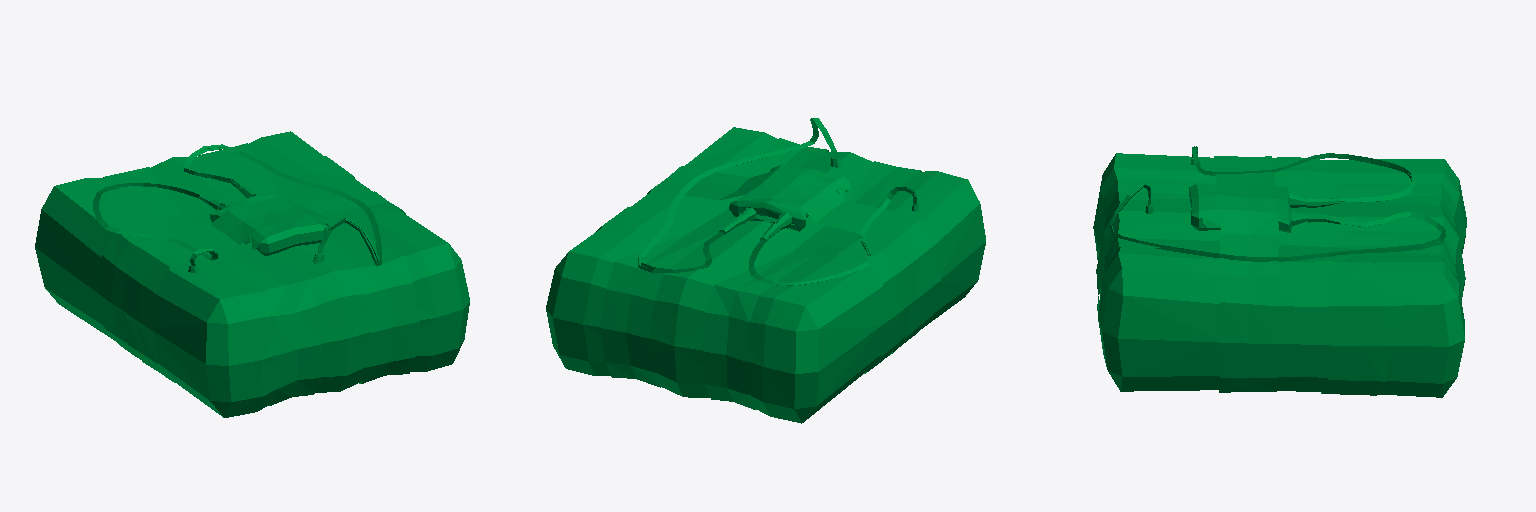
Rendered from item2.obj.
3 views of the same model, side by side, from view 1: azimuth 30°, elevation 25°; view 2: azimuth 150°, elevation 25°; view 3: azimuth 270°, elevation 25° (orthographic).
Parts seen in each view (by area): view 1: C4; view 2: C4; view 3: C4.
Boxes of the visible parts, x1,y1,x2,y2 form: C4: [35, 131, 469, 417]; C4: [546, 118, 985, 423]; C4: [1093, 146, 1466, 397].
Bounding box in the file's own units: 0.2285 × 0.13 × 0.2651.